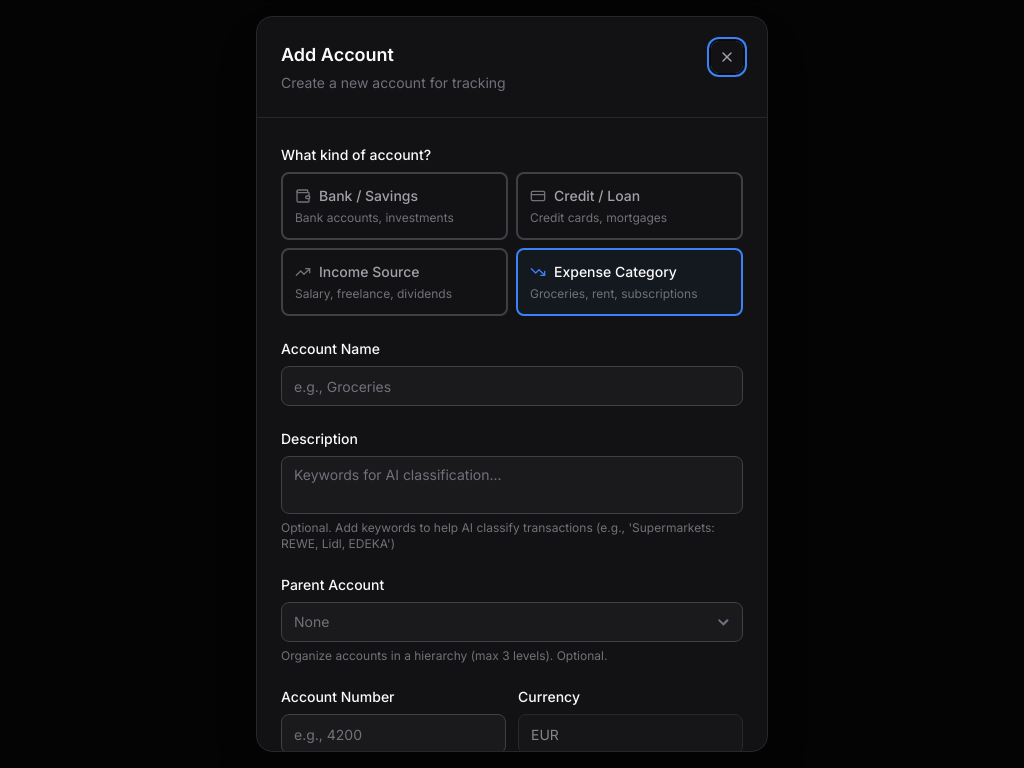
Scenario: CreateAccountModal › hides the Parent Account field once an IBAN is entered for an asset account
Click the button "Bank / Savings Bank accounts, investments": point(394, 206) [281,172,508,240]
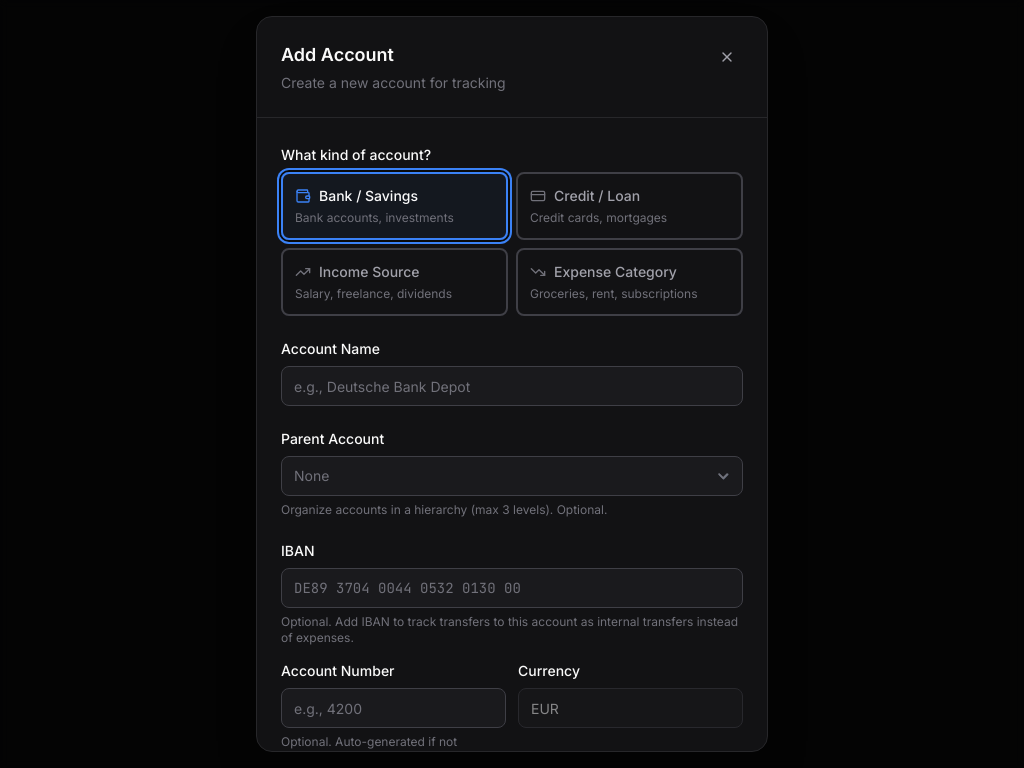
Check: the text "Parent Account" is shown, box [281,430,384,447]
In the field with placeholder "DE89 3704 0044 0532 0130 00": point(512, 588) [281,568,743,608], type "DE89370400440532013000"
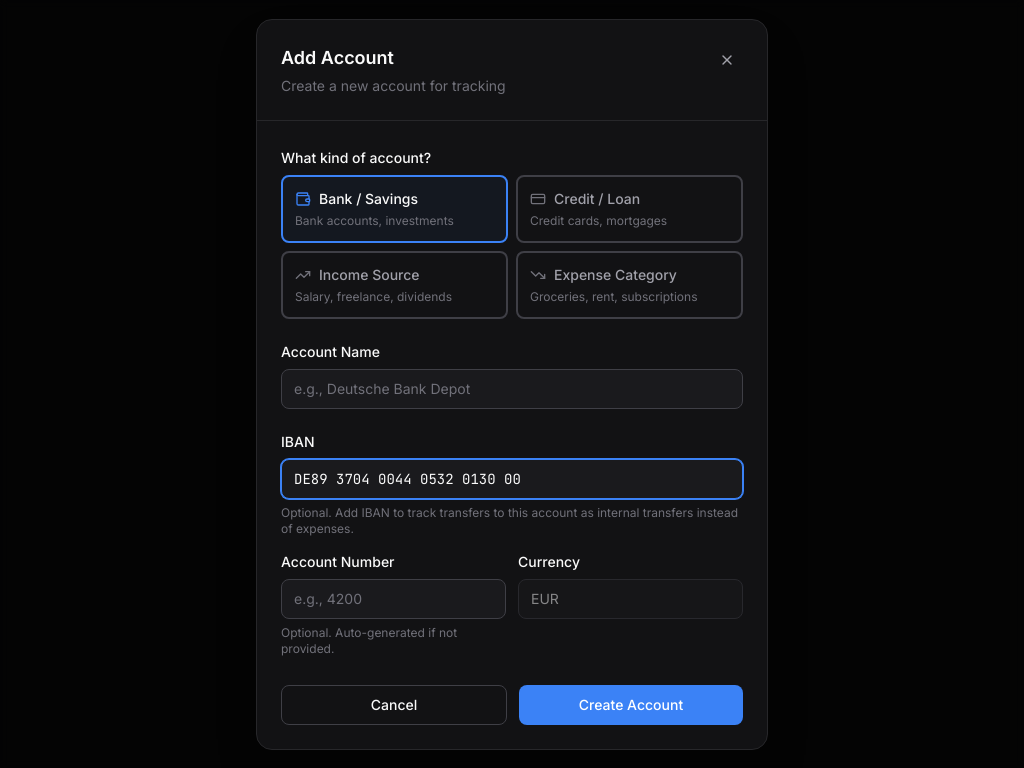
Check: the text "Parent Account" is gone
